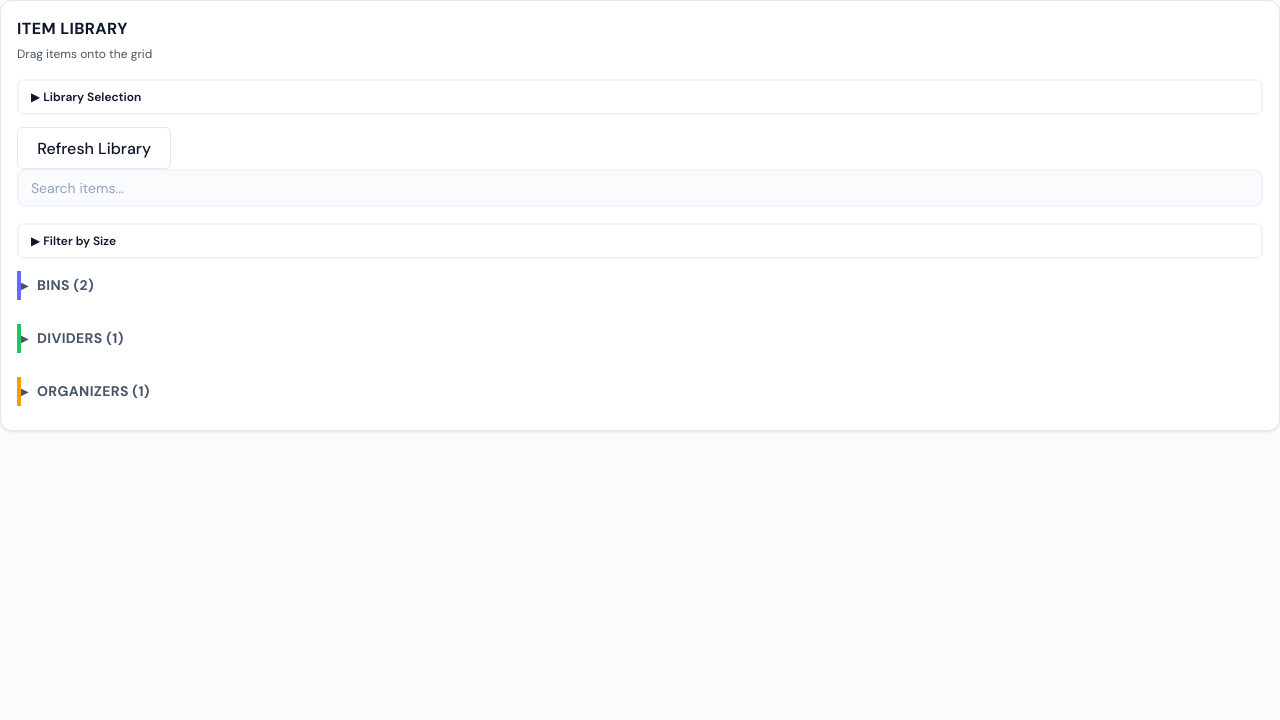
Test: ItemLibrary › Dimension Filtering › should hide filters when toggle button is clicked again
Note: Show filters
Click the button "▶ Filter by Size": (78, 241) left=17, top=223, right=1263, bottom=259
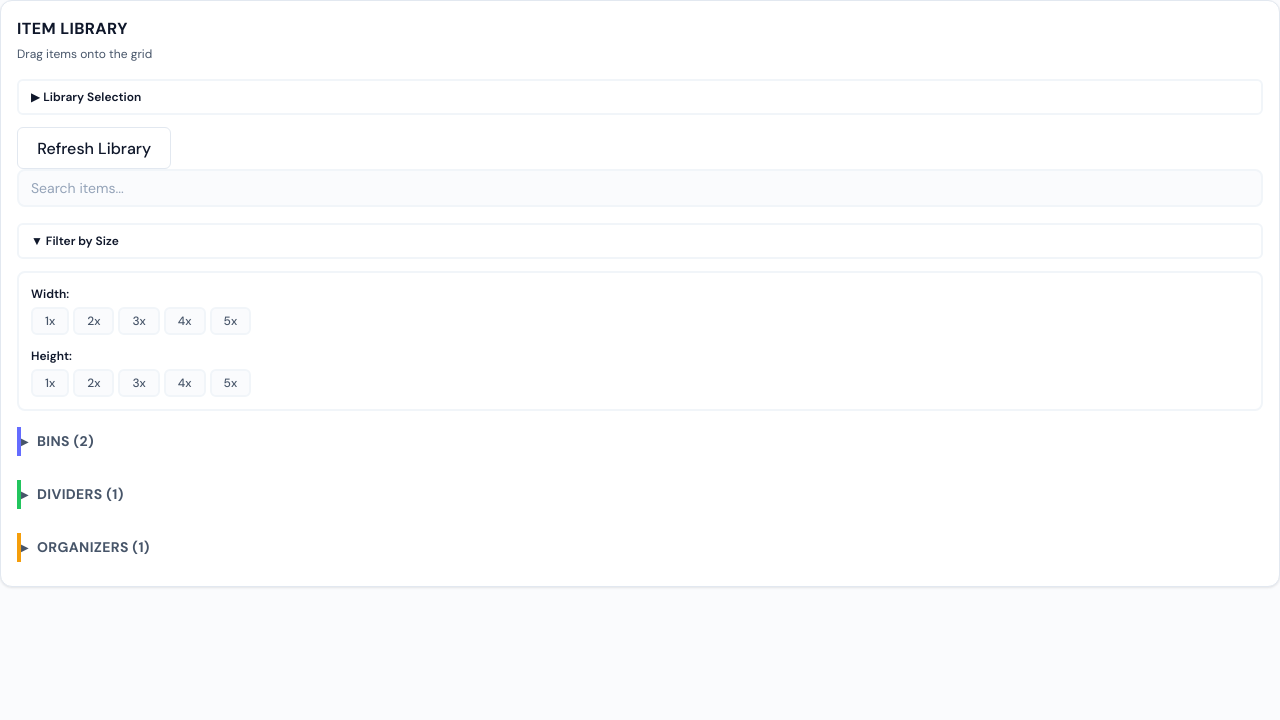
Check: the number of buttons "1x" is 2, box left=31, top=307, right=69, bottom=335; left=31, top=369, right=69, bottom=397
Note: Hide filters
Click the button "▼ Filter by Size": (81, 241) left=17, top=223, right=1263, bottom=259
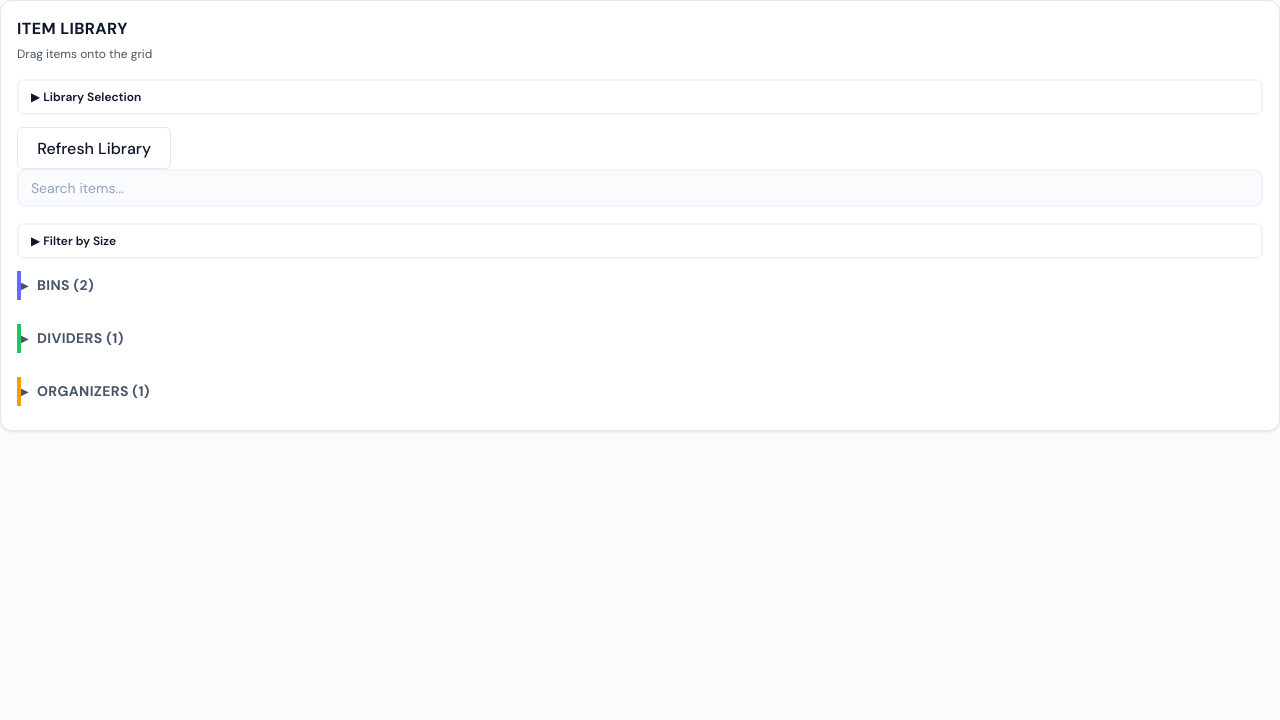
Check: the button "1x" is gone
